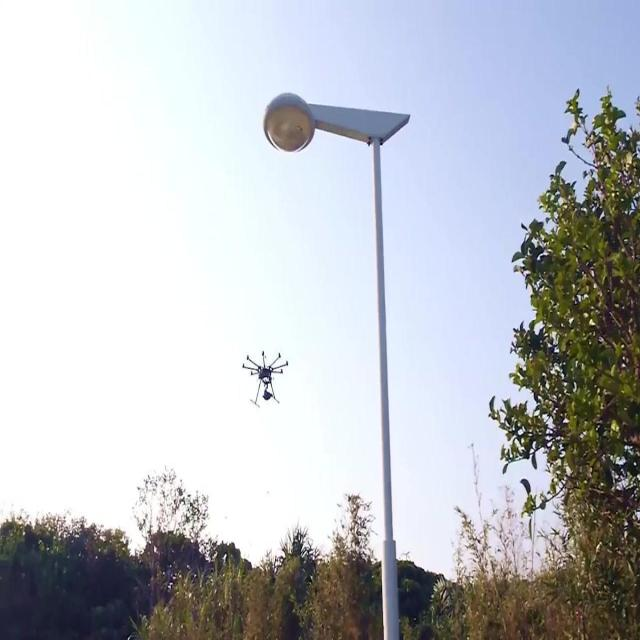drone: (242, 347, 289, 410)
